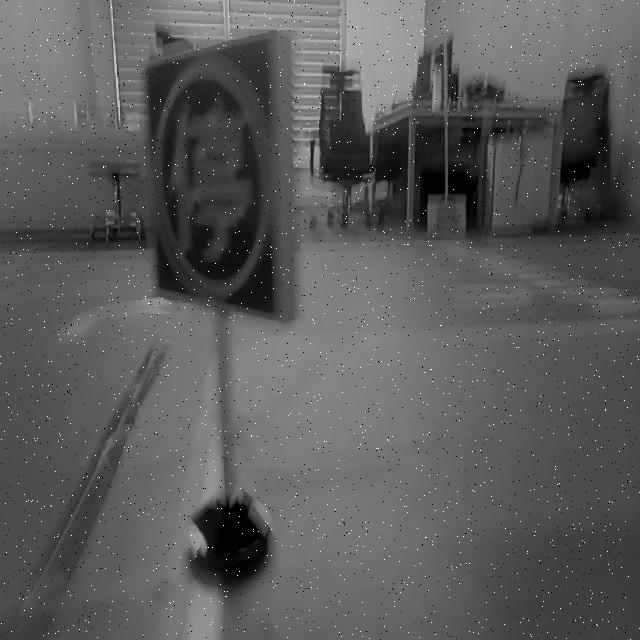right_lane: (158, 360, 240, 638)
